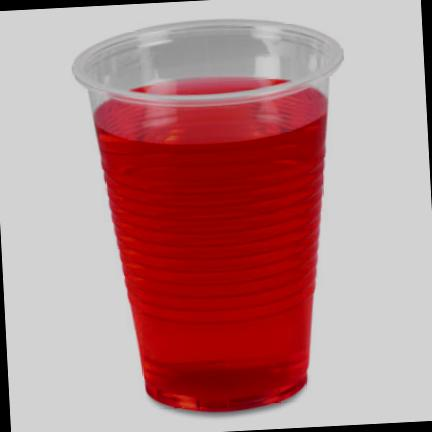container: (73, 19, 342, 411)
fluid: (99, 106, 332, 404)
fluid-surface: (95, 78, 329, 140)
